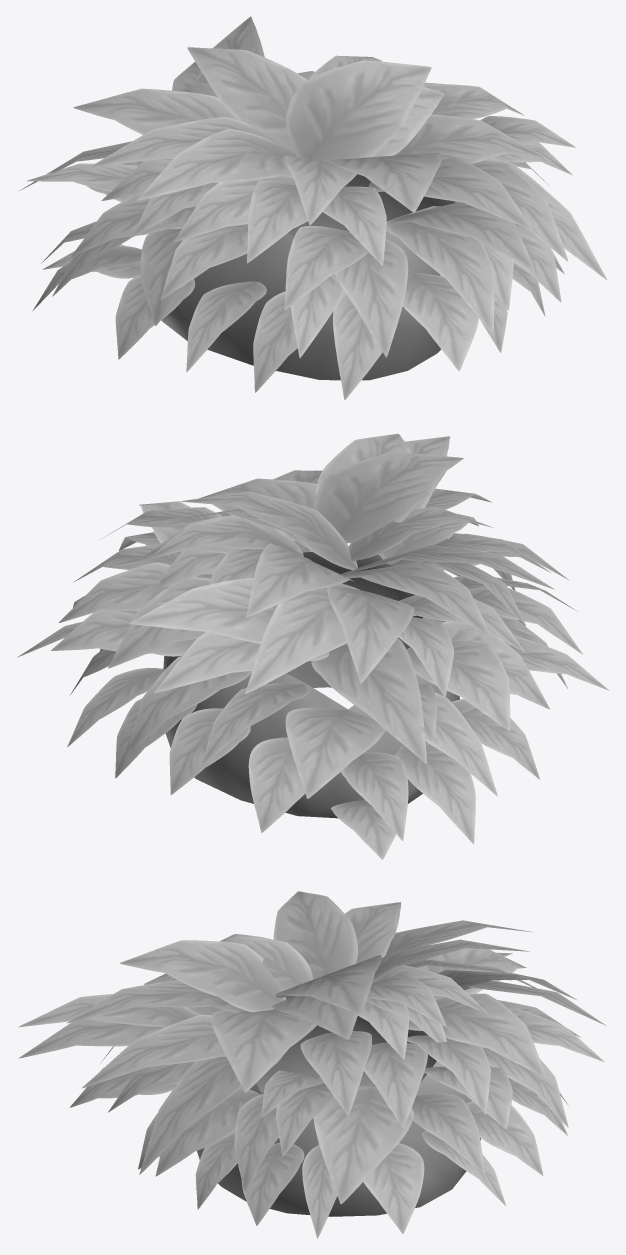
The model's file is ArbustoRedondo.fbx.
3 views of the same model, one above another, from view 1: azimuth 30°, elevation 25°; view 2: azimuth 150°, elevation 25°; view 3: azimuth 270°, elevation 25° (orthographic). The views are drawn at different scales.
Parts seen in each view (by area): view 1: Arbusto_Redondo; view 2: Arbusto_Redondo; view 3: Arbusto_Redondo.
Boxes of the visible parts, x1,y1,x2,y2 form: Arbusto_Redondo: (19,16,606,399); Arbusto_Redondo: (17,433,608,859); Arbusto_Redondo: (18,891,606,1238).
Size of the model in its own units: 148 by 71.28 by 176.
